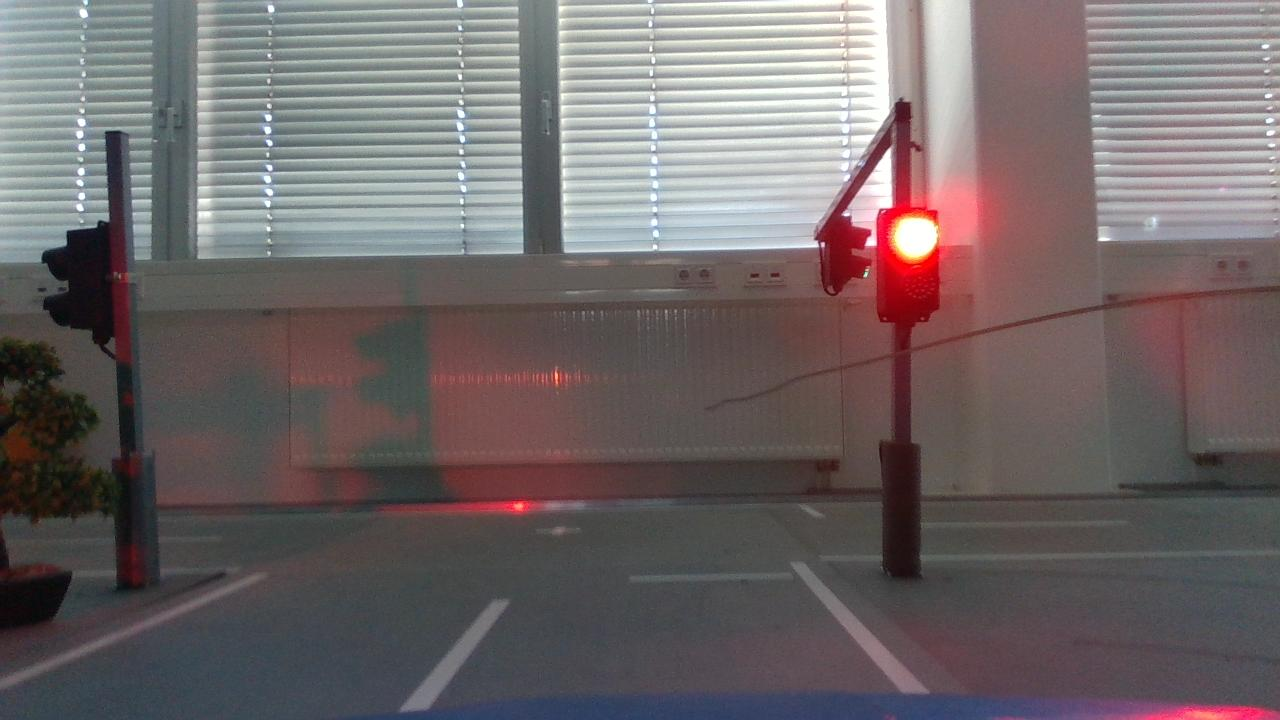traffic_light_red: (867, 199, 950, 335)
